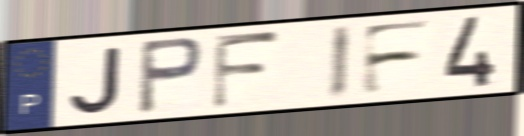4: (442, 14, 498, 90)
F: (358, 17, 436, 98), (209, 29, 284, 111)
I: (327, 23, 354, 102)
J: (67, 44, 125, 116)
P: (135, 34, 207, 116)
